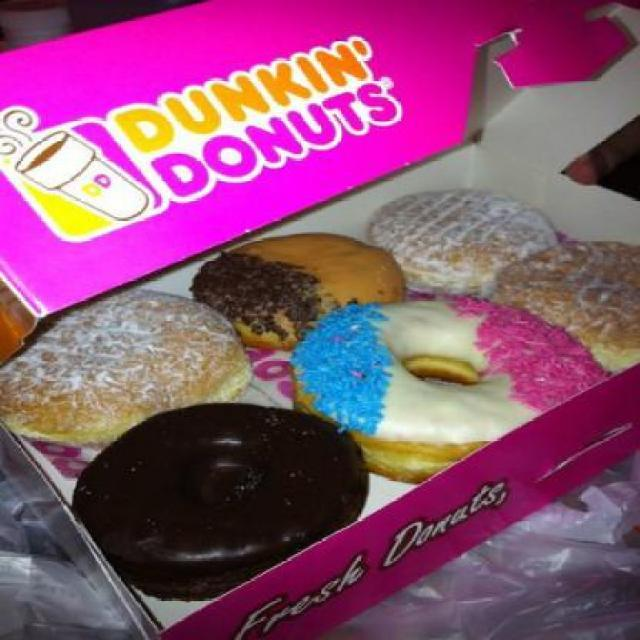Donuts: (16, 189, 638, 588)
